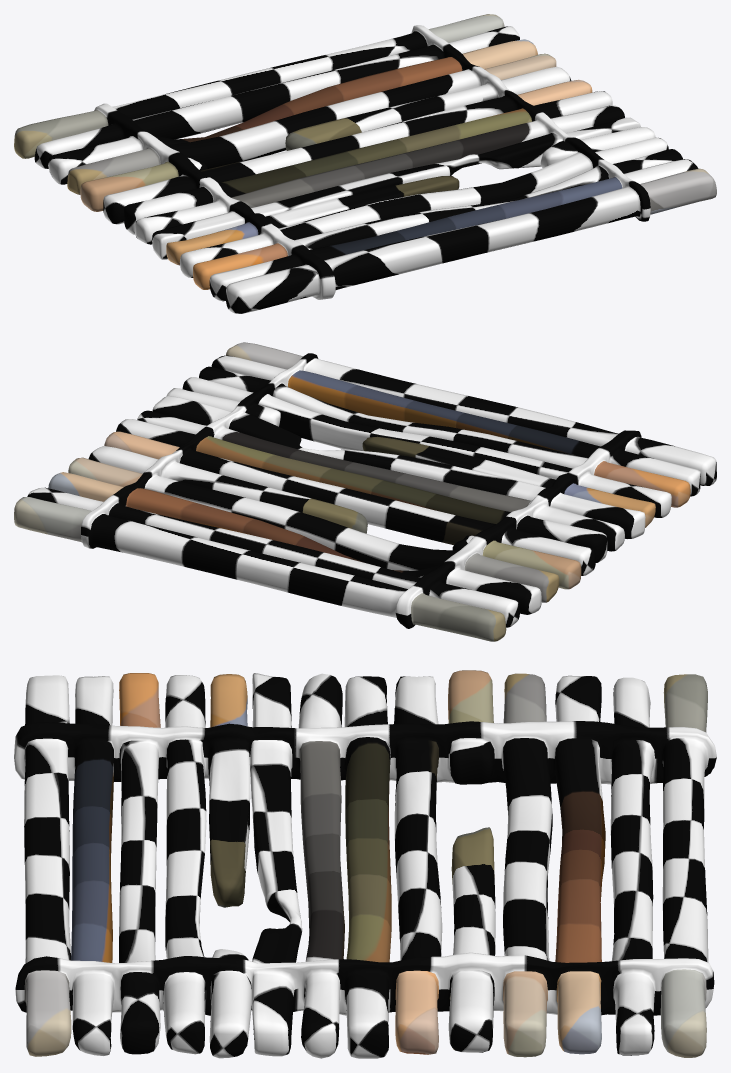
File: RaftBroken_3.fbx
3 renders of one model, top to bottom at view 1: azimuth 30°, elevation 25°; view 2: azimuth 150°, elevation 25°; view 3: azimuth 270°, elevation 25°, orthographic. The views are drawn at different scales.
Visible parts, largest first — view 1: RaftBroken_3; view 2: RaftBroken_3; view 3: RaftBroken_3.
Part boxes in pixels (x1,y1,x2,y2): RaftBroken_3: (14,14,716,313); RaftBroken_3: (14,342,716,641); RaftBroken_3: (14,670,716,1058).
Size of the model in its own units: 1095 by 115 by 907.
